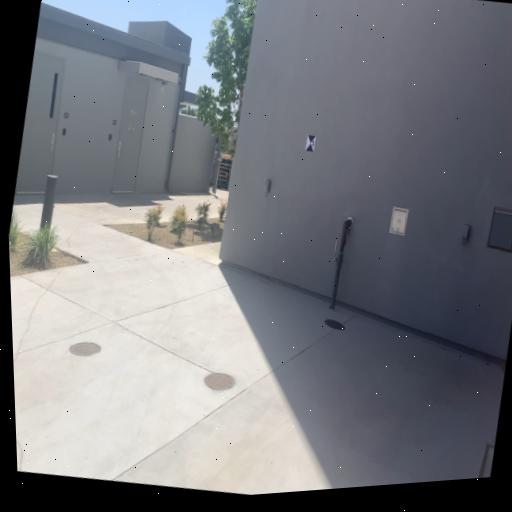target5: (305, 134, 316, 153)
